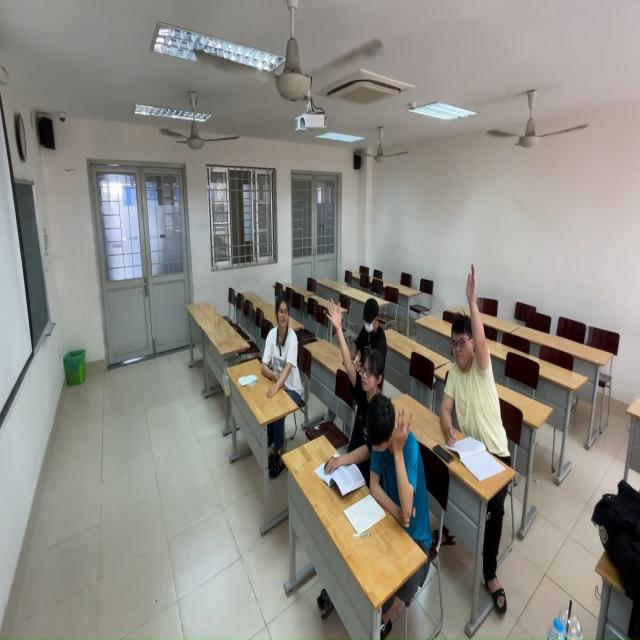raise_hand: (437, 258, 516, 467), (321, 299, 387, 486), (368, 380, 434, 550)
read: (245, 277, 310, 399), (341, 264, 395, 374)
